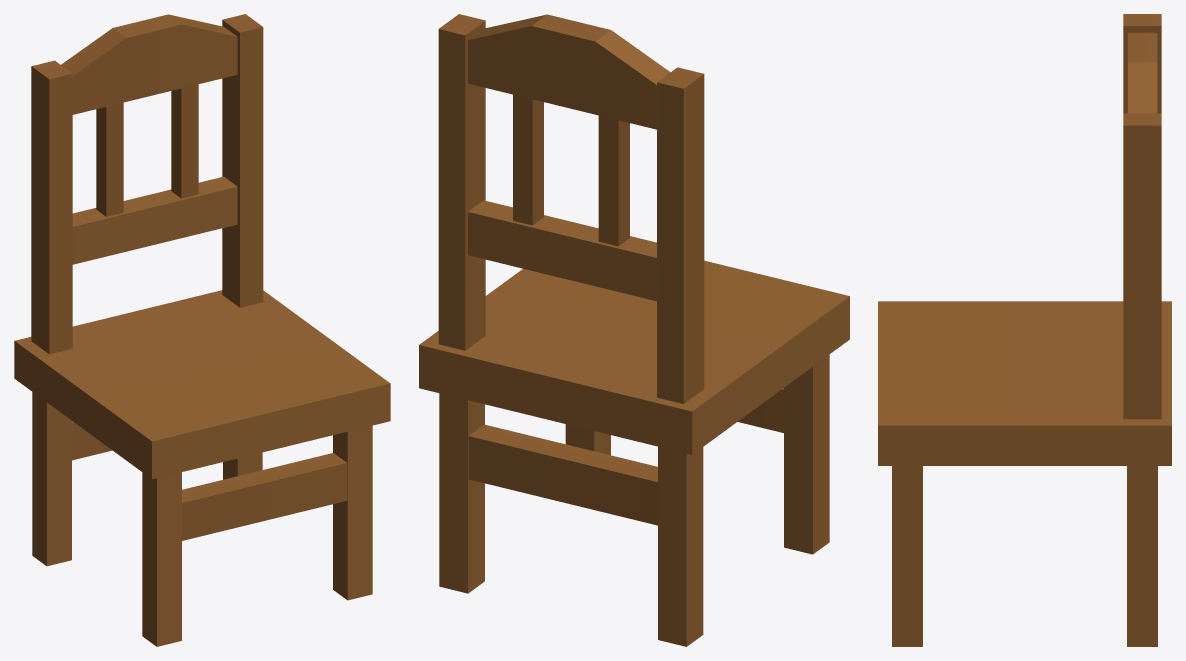
The model's file is Chair_01.fbx.
3 views of the same model, side by side, from view 1: azimuth 30°, elevation 25°; view 2: azimuth 150°, elevation 25°; view 3: azimuth 270°, elevation 25° (orthographic). The views are drawn at different scales.
Parts seen in each view (by area): view 1: Chair_01, Chair_01.003, Chair_01.001, Chair_01.005, Chair_01.002, Chair_01.004, Chair_01.006; view 2: Chair_01, Chair_01.003, Chair_01.001, Chair_01.005, Chair_01.002, Chair_01.004, Chair_01.006; view 3: Chair_01, Chair_01.003, Chair_01.001, Chair_01.005.
Boxes of the visible parts, bbox=[...] form: Chair_01: bbox=[14, 290, 390, 479]; Chair_01.003: bbox=[31, 14, 263, 354]; Chair_01.001: bbox=[32, 392, 372, 646]; Chair_01.005: bbox=[61, 14, 237, 114]; Chair_01.002: bbox=[72, 421, 347, 540]; Chair_01.004: bbox=[72, 176, 237, 264]; Chair_01.006: bbox=[96, 84, 198, 216]; Chair_01: bbox=[419, 260, 849, 454]; Chair_01.003: bbox=[438, 14, 704, 403]; Chair_01.001: bbox=[439, 354, 829, 646]; Chair_01.005: bbox=[468, 14, 670, 129]; Chair_01.002: bbox=[468, 388, 783, 525]; Chair_01.004: bbox=[468, 200, 656, 301]; Chair_01.006: bbox=[513, 94, 629, 246]; Chair_01: bbox=[878, 301, 1171, 465]; Chair_01.003: bbox=[1123, 14, 1161, 419]; Chair_01.001: bbox=[892, 466, 1157, 646]; Chair_01.005: bbox=[1128, 32, 1157, 113].
Size of the model in its own units: 0.5842 by 1.19 by 0.5842.
